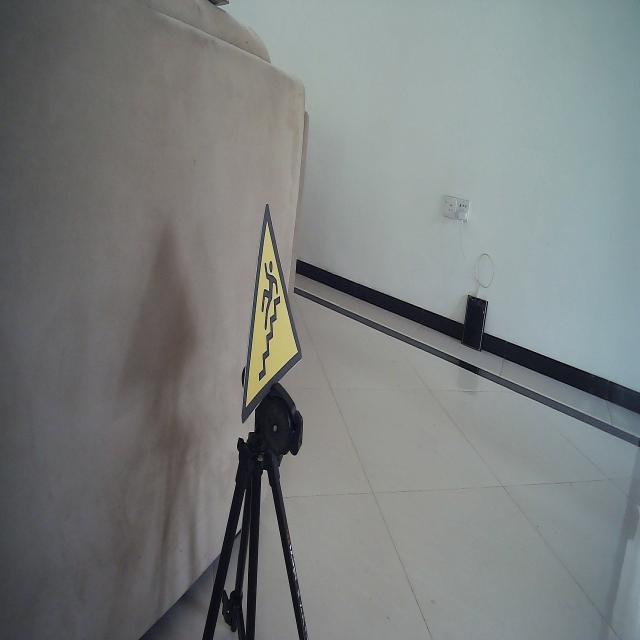stairs: (240, 200, 304, 425)
